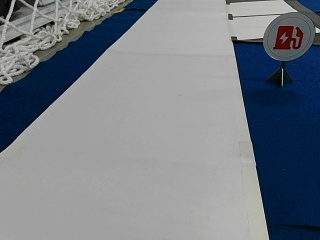battery: (263, 12, 314, 60)
